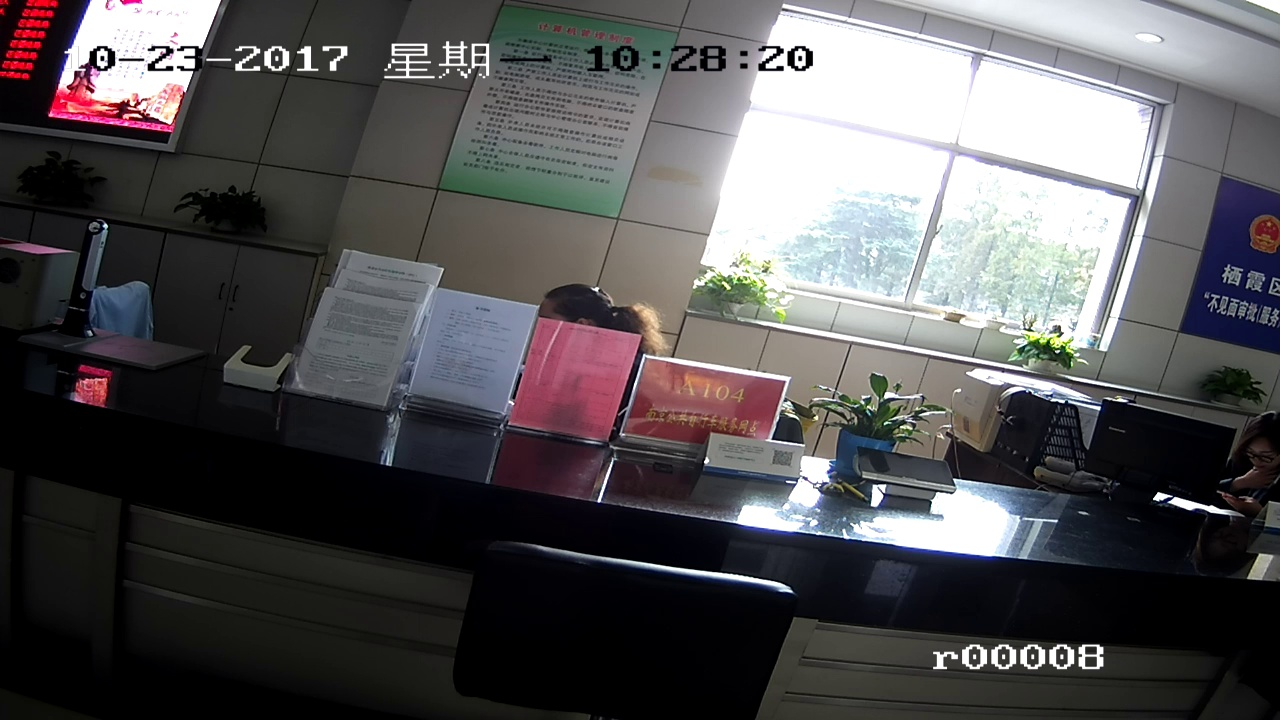billboard: (481, 12, 632, 225), (610, 359, 795, 459), (1209, 170, 1280, 338)
chair: (436, 536, 831, 698)
pot: (814, 369, 924, 485), (703, 267, 778, 332), (186, 183, 256, 236), (1019, 324, 1072, 382)
